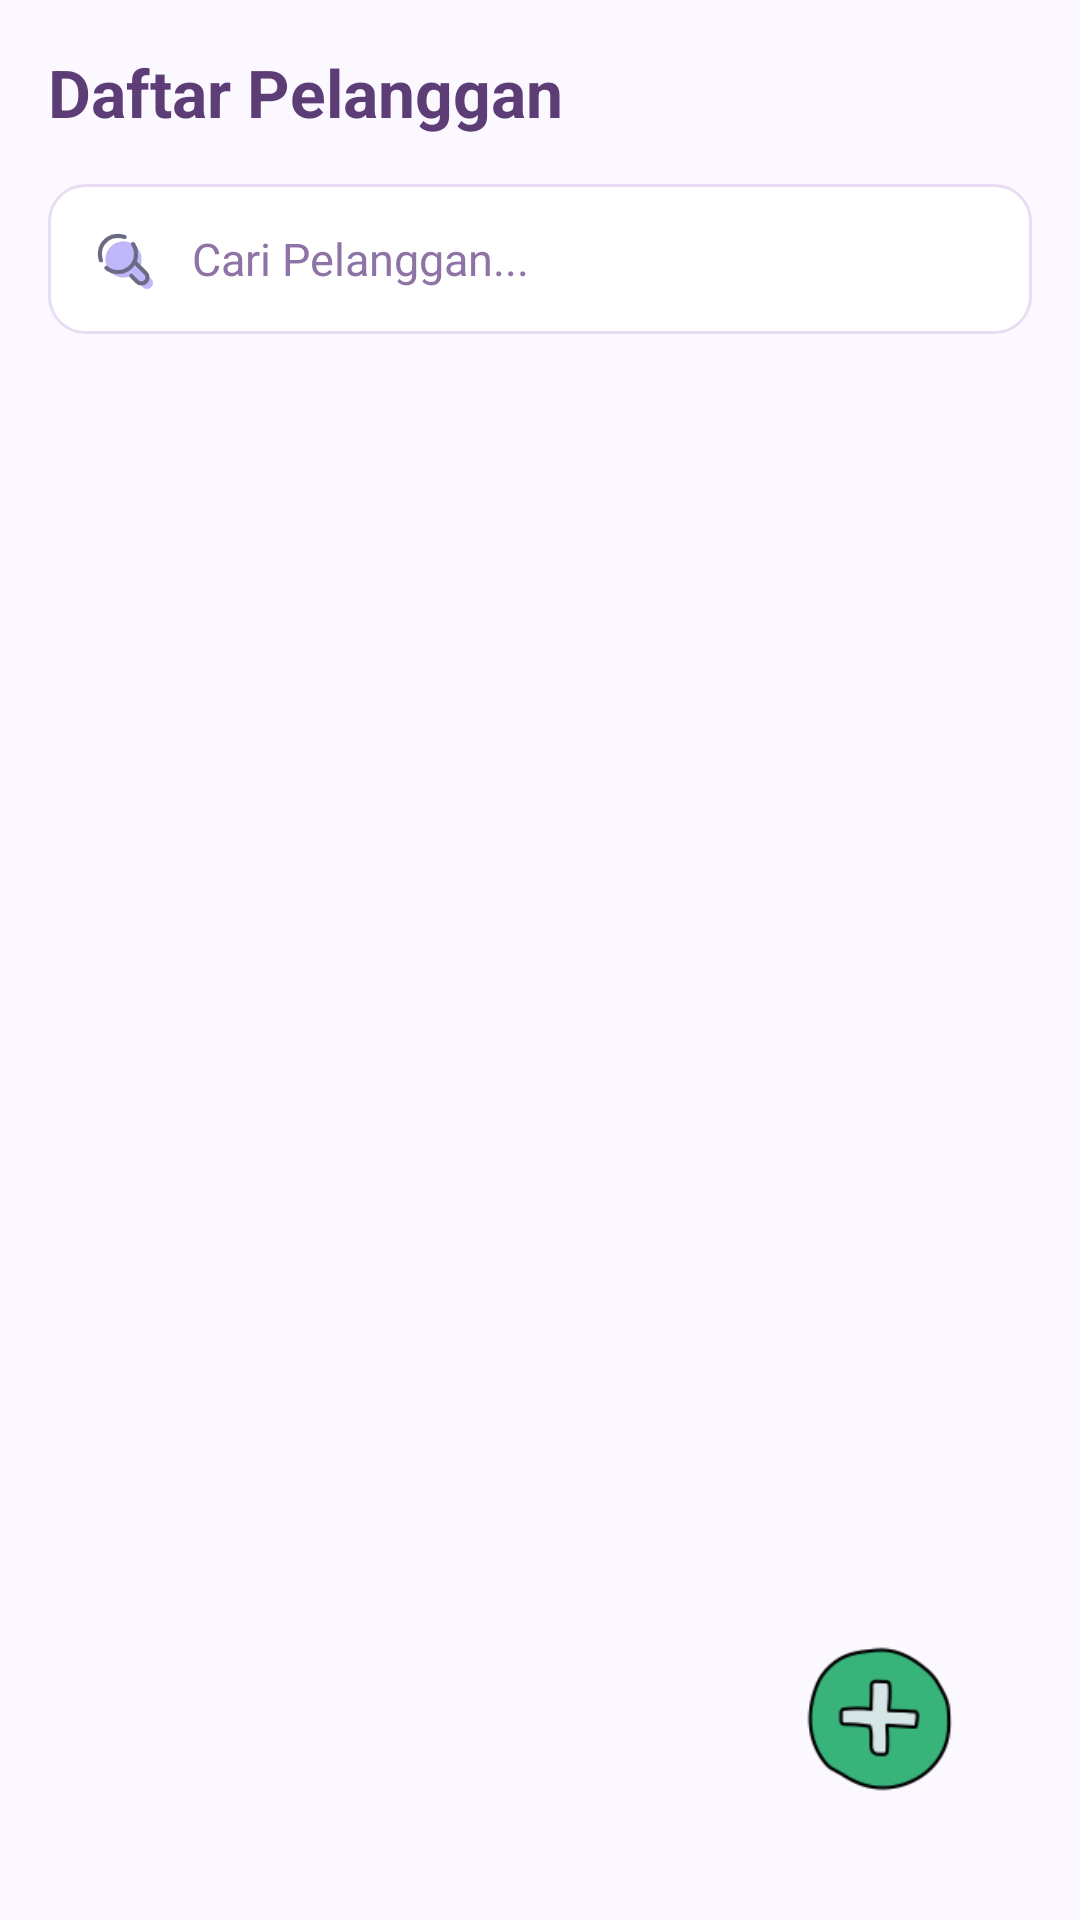

Where to tap for icons on this 1080 x 1920 app screen, as point (x, y):
search: point (125, 261)
Tambah pelanggan: point (879, 1719)
